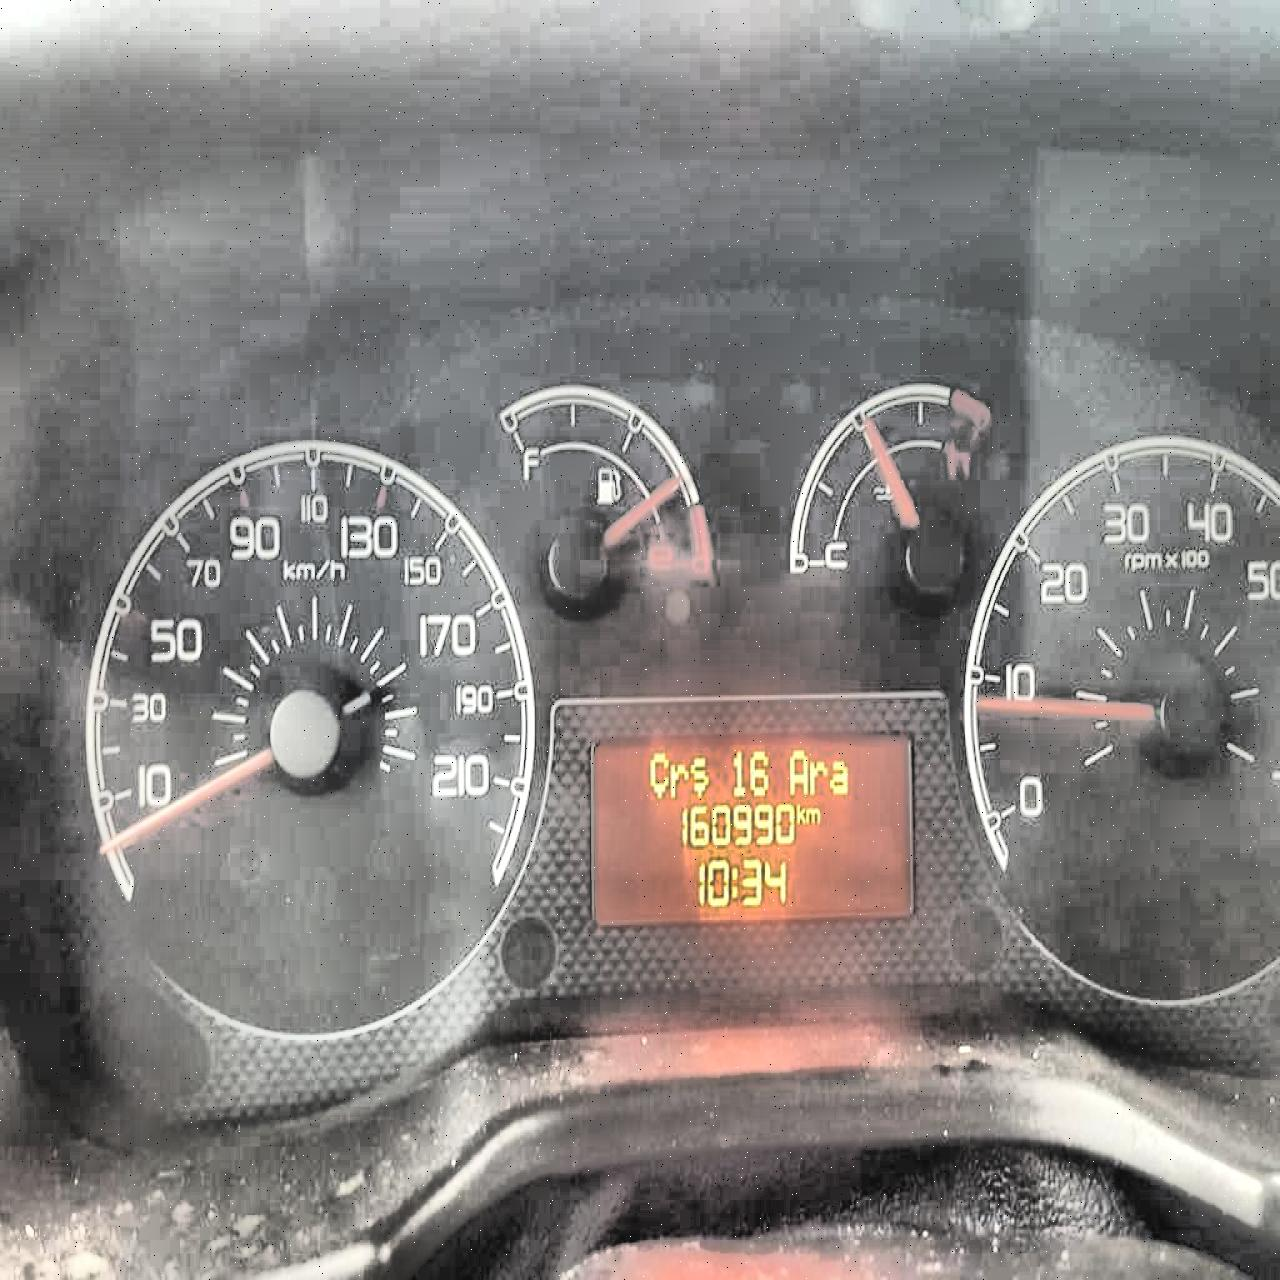0: (706, 856, 730, 907), (774, 799, 794, 843), (712, 803, 730, 846)
1: (729, 744, 747, 798), (696, 858, 706, 908), (680, 803, 688, 845)
3: (740, 855, 761, 905)
4: (763, 857, 787, 904)
6: (748, 747, 769, 797), (688, 802, 708, 846)
9: (733, 802, 753, 845), (754, 802, 772, 843)
X: (647, 748, 668, 799), (788, 745, 808, 797), (689, 754, 712, 798), (669, 757, 689, 798), (808, 757, 828, 794), (829, 758, 847, 795), (730, 863, 738, 900), (804, 805, 821, 823), (796, 799, 804, 823)
odometer: (587, 723, 913, 921)
